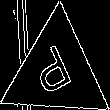P_SE: (31, 40, 82, 102)
